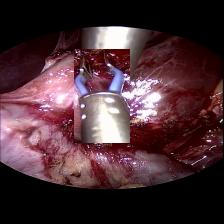Bipolar: (74, 48, 130, 142)
